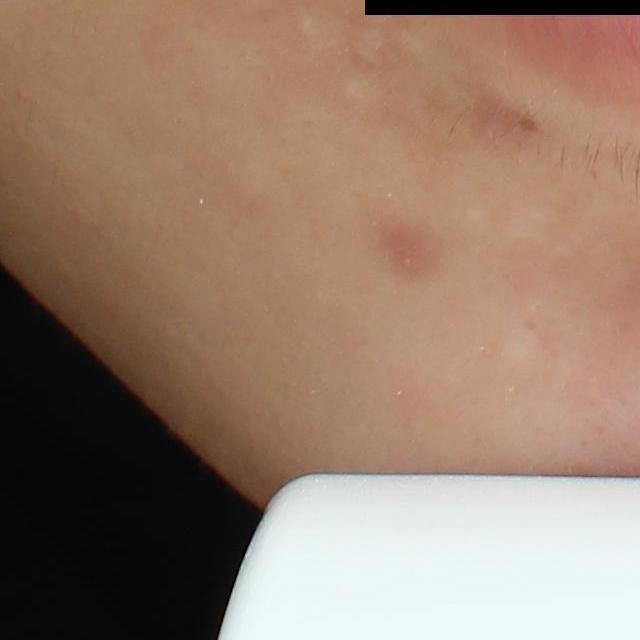hypertrophic_scar: (341, 69, 388, 119), (389, 24, 443, 65)
